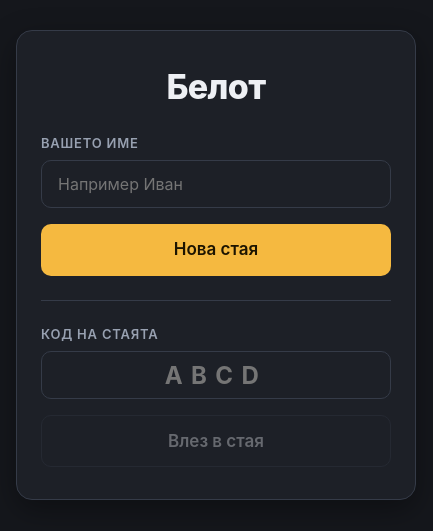
it: connecting and lobby › requires a name before creating
The image size is (433, 531).
Click the button "Нова стая" at (216, 250), box [41,224,391,276]
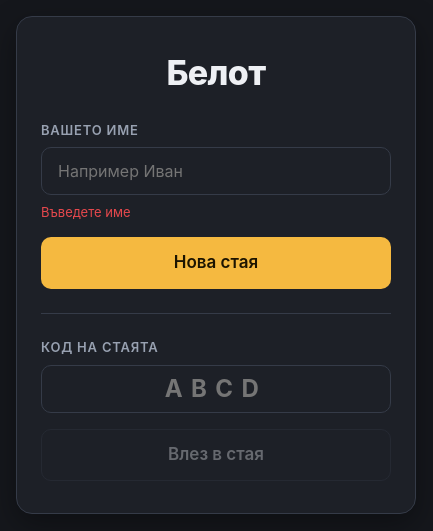
Result: the text "Въведете име" is shown at [41,204,130,220]
